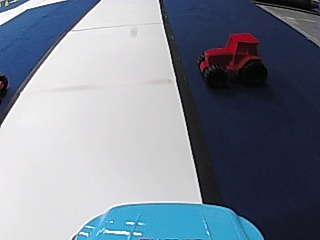tractor: (195, 31, 267, 89)
